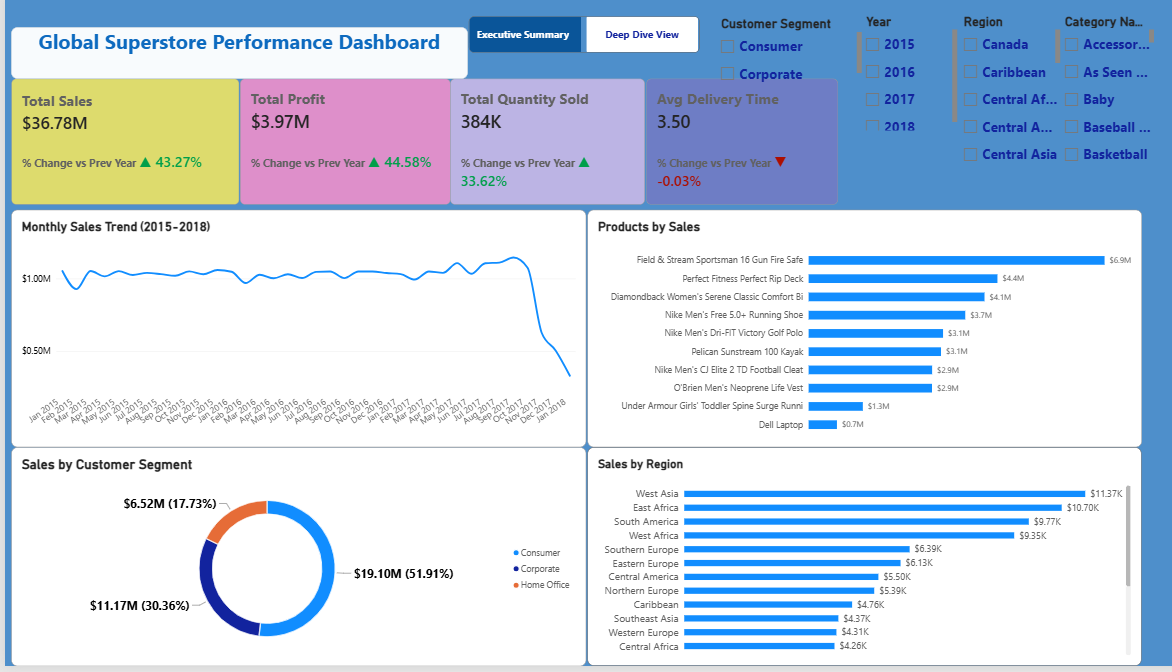

What the dashboard file says about the page in this screenshot:
{"tool":"powerbi","page":{"name":"Executive Summary","canvas":[1920,1080],"ordinal":0},"visuals":[{"type":"cardVisual","fields":{"Data":["_Measure.Total Sales"]},"box":[10,140,365,202.5],"z":0},{"type":"cardVisual","fields":{"Data":["_Measure.Total Profit"]},"box":[375,140,337.5,202.5],"z":1000},{"type":"cardVisual","fields":{"Data":["_Measure.Total Quantity"]},"box":[712.5,140,312.5,202.5],"z":2000},{"type":"cardVisual","fields":{"Data":["_Measure.Avg Shipment Days"]},"box":[1025,140,307.5,202.5],"z":3000},{"type":"lineChart","title":"Monthly Sales Trend (2015-2018)","fields":{"Category":["DimDate.MonthYear"],"Y":["_Measure.Total Sales"]},"box":[10,350,920,380],"z":4000},{"type":"clusteredBarChart","title":"Products by Sales","fields":{"Category":["DimProduct.Product Name"],"Y":["_Measure.Total Sales"]},"box":[932.5,350,887.5,380],"z":5000},{"type":"donutChart","title":" Sales by Customer Segment","fields":{"Category":["DimCustomer.Customer Segment"],"Y":["_Measure.Total Sales"]},"box":[10,730,920,350],"z":6000},{"type":"slicer","fields":{"Values":["DimDate.Year"]},"box":[1370.5,35.2,154,187],"z":7000},{"type":"slicer","fields":{"Values":["DimLocation.Order Region"]},"box":[1525,35,162.5,245],"z":8000},{"type":"slicer","fields":{"Values":["DimProduct.Category Name"]},"box":[1687.5,35,150,245],"z":9000},{"type":"textbox","box":[10,57.5,730,82.5],"z":10000},{"type":"slicer","fields":{"Values":["DimCustomer.Customer Segment"]},"box":[1137.3,39.6,233.2,118.8],"z":12000},{"type":"barChart","title":"Sales by  Region","fields":{"Category":["DimLocation.Order Region"],"Y":["_Measure.Total Sales"]},"box":[932.7,730.3,886.5,349.8],"z":12001},{"type":"pageNavigator","box":[741.3,39.6,369.6,59.4],"z":12002}]}

Visuals, with their boxes in screenshot pixels (x1, y1, x2, y2), scaled from the page's 1920x1080 canvas onto the 1172x672 screenshot:
cardVisual - _Measure.Total Sales: select_region(6, 87, 229, 213)
cardVisual - _Measure.Total Profit: select_region(229, 87, 435, 213)
cardVisual - _Measure.Total Quantity: select_region(435, 87, 626, 213)
cardVisual - _Measure.Avg Shipment Days: select_region(626, 87, 813, 213)
"Monthly Sales Trend (2015-2018)" lineChart: select_region(6, 218, 568, 454)
"Products by Sales" clusteredBarChart: select_region(569, 218, 1111, 454)
" Sales by Customer Segment" donutChart: select_region(6, 454, 568, 671)
slicer - DimDate.Year: select_region(837, 22, 931, 138)
slicer - DimLocation.Order Region: select_region(931, 22, 1030, 174)
slicer - DimProduct.Category Name: select_region(1030, 22, 1122, 174)
textbox: select_region(6, 36, 452, 87)
slicer - DimCustomer.Customer Segment: select_region(694, 25, 837, 99)
"Sales by  Region" barChart: select_region(569, 454, 1110, 671)
pageNavigator: select_region(453, 25, 678, 62)
